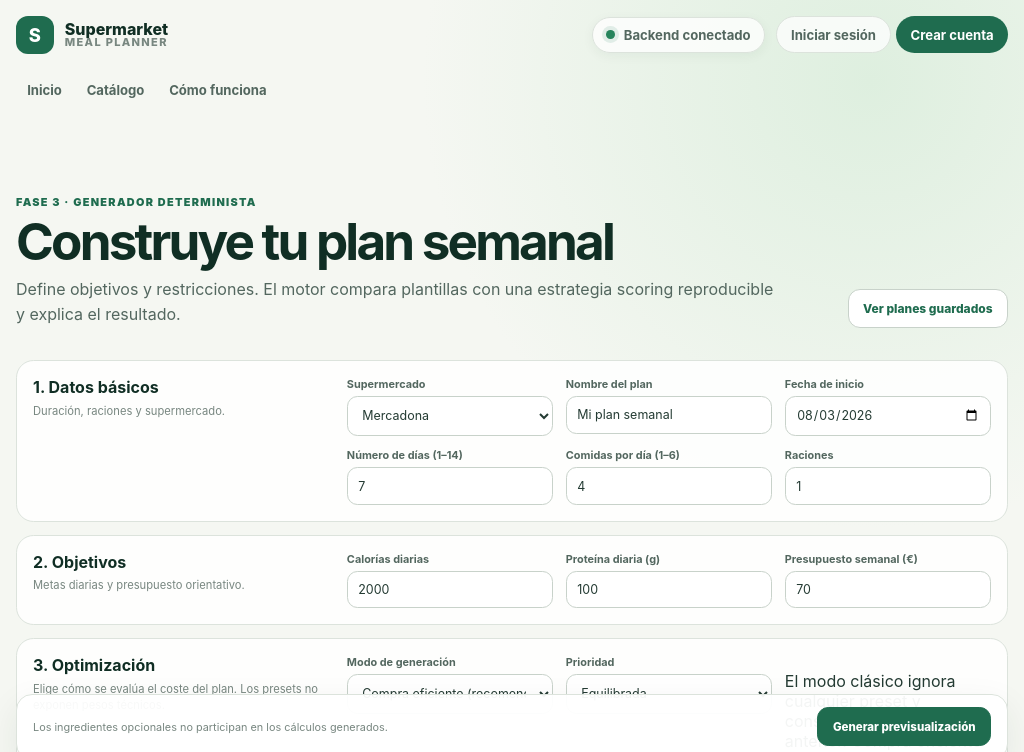
Test: MealPlanFormPage › shows the API explanation when generation is impossible
Click the button "Generar previsualización": (904, 727) [818,708,991,746]
(page scrolled)
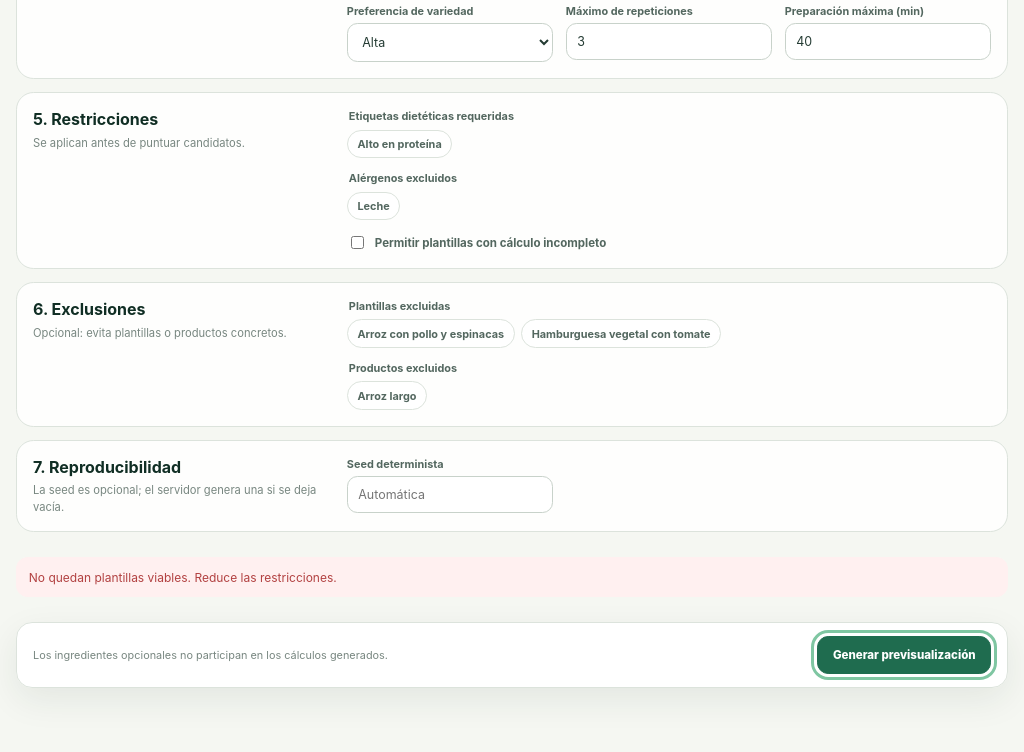
Now the message shows "Reduce las restricciones", box [29,570,337,584]
